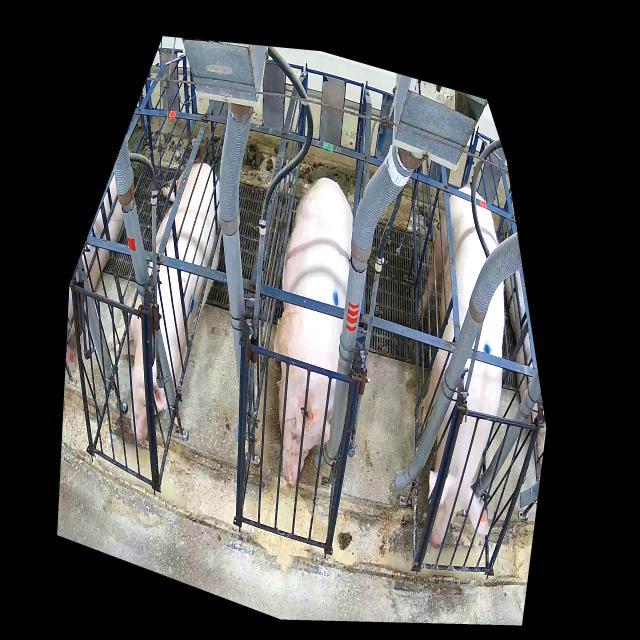pig: (107, 162, 222, 447), (418, 186, 504, 547), (273, 178, 353, 485)
